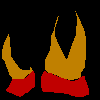gonna: (41, 70, 89, 96), (5, 70, 35, 96)
maglia: (44, 9, 86, 80), (2, 32, 33, 79)
